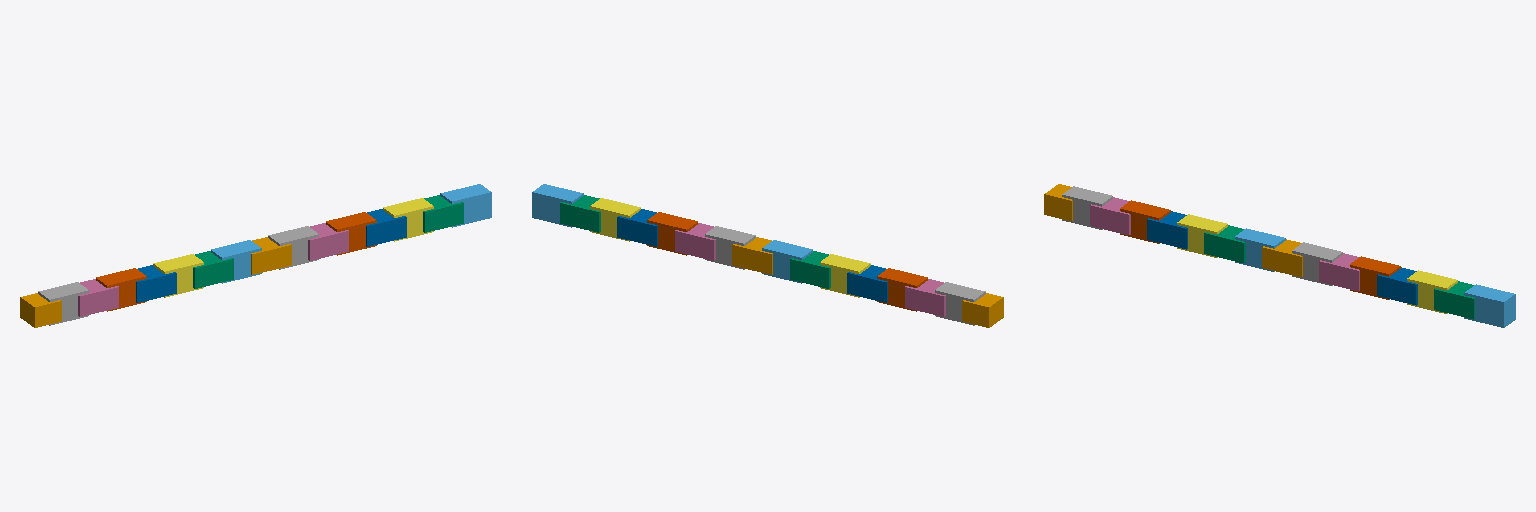
robot.urdf — snake_test:
<?xml version="1.0"?>

<robot name="snake_test">

    <link name="base_link">
        <visual>
            <origin xyz="0 0 0.0" rpy="0 -1.57075 0"/>
            <geometry>
                <box size="0.03 0.03 0.005"/>
            </geometry>
            <material name="black"/>
        </visual>    
    </link>

    <joint name="endpoint" type="fixed">
        <parent link="base_link"/>
        <child link="head"/>
        <origin xyz="0.0 0.0 0.0" rpy="0.0 1.57075 0.0"/>
    </joint>

    <link name="head">
        <inertial>
            <mass value="0.06"/>
            <inertia ixx="4.0E-5" ixy="0" ixz="0" iyy="4.45E-5" iyz="0" izz="2.05E-5"/>
        </inertial>
        <visual>
            <origin xyz="0.0 0.0 0.0" rpy="0.0 0.0 0.0"/>
            <geometry>
                <box size="0.05 0.04 0.08"/>
            </geometry>
        </visual>

        <collision>
            <origin xyz="0.0 0.0 0.02" rpy="0.0 0.0 0.0"/>
            <geometry>
                <box size="0.046 0.036 0.04"/>
            </geometry>
        </collision>
    </link>

    <link name="1_link">
        <inertial>
            <mass value="0.06"/>
            <inertia ixx="4.0E-5" ixy="0" ixz="0" iyy="4.45E-5" iyz="0" izz="2.05E-5"/>
        </inertial>
        <visual>
            <origin xyz="0.0 0.0 -0.029" rpy="0.0 0.0 0.0"/>
            <geometry>
                <box size="0.05 0.04 0.08"/>
            </geometry>
        </visual>

        <collision>
            <origin xyz="0.0 0.0 -0.009" rpy="0.0 0.0 0.0"/>
            <geometry>
                <box size="0.046 0.036 0.04"/>
            </geometry>
        </collision>
    </link>    

    <link name="2_link">
        <inertial>
            <mass value="0.06"/>
            <inertia ixx="4.0E-5" ixy="0" ixz="0" iyy="4.45E-5" iyz="0" izz="2.05E-5"/>
        </inertial>
        <visual>
            <origin xyz="0.0 0.0 -0.029" rpy="0.0 0.0 0.0"/>
            <geometry>
                <box size="0.05 0.04 0.08"/>
            </geometry>
        </visual>

        <collision>
            <origin xyz="0.0 0.0 -0.009" rpy="0.0 0.0 0.0"/>
            <geometry>
                <box size="0.046 0.036 0.04"/>
            </geometry>
        </collision>
    </link>  

    <link name="3_link">
        <inertial>
            <mass value="0.06"/>
            <inertia ixx="4.0E-5" ixy="0" ixz="0" iyy="4.45E-5" iyz="0" izz="2.05E-5"/>
        </inertial>
        <visual>
            <origin xyz="0.0 0.0 -0.029" rpy="0.0 0.0 0.0"/>
            <geometry>
                <box size="0.05 0.04 0.08"/>
            </geometry>
        </visual>

        <collision>
            <origin xyz="0.0 0.0 -0.009" rpy="0.0 0.0 0.0"/>
            <geometry>
                <box size="0.046 0.036 0.04"/>
            </geometry>
        </collision>
    </link>

    <link name="4_link">
        <inertial>
            <mass value="0.06"/>
            <inertia ixx="4.0E-5" ixy="0" ixz="0" iyy="4.45E-5" iyz="0" izz="2.05E-5"/>
        </inertial>
        <visual>
            <origin xyz="0.0 0.0 -0.029" rpy="0.0 0.0 0.0"/>
            <geometry>
                <box size="0.05 0.04 0.08"/>
            </geometry>
        </visual>

        <collision>
            <origin xyz="0.0 0.0 -0.009" rpy="0.0 0.0 0.0"/>
            <geometry>
                <box size="0.046 0.036 0.04"/>
            </geometry>
        </collision>
    </link>

    <link name="5_link">
        <inertial>
            <mass value="0.06"/>
            <inertia ixx="4.0E-5" ixy="0" ixz="0" iyy="4.45E-5" iyz="0" izz="2.05E-5"/>
        </inertial>
        <visual>
            <origin xyz="0.0 0.0 -0.029" rpy="0.0 0.0 0.0"/>
            <geometry>
                <box size="0.05 0.04 0.08"/>
            </geometry>
        </visual>

        <collision>
            <origin xyz="0.0 0.0 -0.009" rpy="0.0 0.0 0.0"/>
            <geometry>
                <box size="0.046 0.036 0.04"/>
            </geometry>
        </collision>
    </link>  

    <link name="6_link">
        <inertial>
            <mass value="0.06"/>
            <inertia ixx="4.0E-5" ixy="0" ixz="0" iyy="4.45E-5" iyz="0" izz="2.05E-5"/>
        </inertial>
        <visual>
            <origin xyz="0.0 0.0 -0.029" rpy="0.0 0.0 0.0"/>
            <geometry>
                <box size="0.05 0.04 0.08"/>
            </geometry>
        </visual>

        <collision>
            <origin xyz="0.0 0.0 -0.009" rpy="0.0 0.0 0.0"/>
            <geometry>
                <box size="0.046 0.036 0.04"/>
            </geometry>
        </collision>
    </link>

    <link name="7_link">
        <inertial>
            <mass value="0.06"/>
            <inertia ixx="4.0E-5" ixy="0" ixz="0" iyy="4.45E-5" iyz="0" izz="2.05E-5"/>
        </inertial>
        <visual>
            <origin xyz="0.0 0.0 -0.029" rpy="0.0 0.0 0.0"/>
            <geometry>
                <box size="0.05 0.04 0.08"/>
            </geometry>
        </visual>

        <collision>
            <origin xyz="0.0 0.0 -0.009" rpy="0.0 0.0 0.0"/>
            <geometry>
                <box size="0.046 0.036 0.04"/>
            </geometry>
        </collision>
    </link>

    <link name="8_link">
        <inertial>
            <mass value="0.06"/>
            <inertia ixx="4.0E-5" ixy="0" ixz="0" iyy="4.45E-5" iyz="0" izz="2.05E-5"/>
        </inertial>
        <visual>
            <origin xyz="0.0 0.0 -0.029" rpy="0.0 0.0 0.0"/>
            <geometry>
                <box size="0.05 0.04 0.08"/>
            </geometry>
        </visual>

        <collision>
            <origin xyz="0.0 0.0 -0.009" rpy="0.0 0.0 0.0"/>
            <geometry>
                <box size="0.046 0.036 0.04"/>
            </geometry>
        </collision>
    </link>

    <link name="9_link">
        <inertial>
            <mass value="0.06"/>
            <inertia ixx="4.0E-5" ixy="0" ixz="0" iyy="4.45E-5" iyz="0" izz="2.05E-5"/>
        </inertial>
        <visual>
            <origin xyz="0.0 0.0 -0.029" rpy="0.0 0.0 0.0"/>
            <geometry>
                <box size="0.05 0.04 0.08"/>
            </geometry>
        </visual>

        <collision>
            <origin xyz="0.0 0.0 -0.009" rpy="0.0 0.0 0.0"/>
            <geometry>
                <box size="0.046 0.036 0.04"/>
            </geometry>
        </collision>
    </link>

    <link name="10_link">
        <inertial>
            <mass value="0.06"/>
            <inertia ixx="4.0E-5" ixy="0" ixz="0" iyy="4.45E-5" iyz="0" izz="2.05E-5"/>
        </inertial>
        <visual>
            <origin xyz="0.0 0.0 -0.029" rpy="0.0 0.0 0.0"/>
            <geometry>
                <box size="0.05 0.04 0.08"/>
            </geometry>
        </visual>

        <collision>
            <origin xyz="0.0 0.0 -0.009" rpy="0.0 0.0 0.0"/>
            <geometry>
                <box size="0.046 0.036 0.04"/>
            </geometry>
        </collision>
    </link>

    <link name="11_link">
        <inertial>
            <mass value="0.06"/>
            <inertia ixx="4.0E-5" ixy="0" ixz="0" iyy="4.45E-5" iyz="0" izz="2.05E-5"/>
        </inertial>
        <visual>
            <origin xyz="0.0 0.0 -0.029" rpy="0.0 0.0 0.0"/>
            <geometry>
                <box size="0.05 0.04 0.08"/>
            </geometry>
        </visual>

        <collision>
            <origin xyz="0.0 0.0 -0.009" rpy="0.0 0.0 0.0"/>
            <geometry>
                <box size="0.046 0.036 0.04"/>
            </geometry>
        </collision>
    </link>

    <link name="12_link">
        <inertial>
            <mass value="0.06"/>
            <inertia ixx="4.0E-5" ixy="0" ixz="0" iyy="4.45E-5" iyz="0" izz="2.05E-5"/>
        </inertial>
        <visual>
            <origin xyz="0.0 0.0 -0.029" rpy="0.0 0.0 0.0"/>
            <geometry>
                <box size="0.05 0.04 0.08"/>
            </geometry>
        </visual>

        <collision>
            <origin xyz="0.0 0.0 -0.009" rpy="0.0 0.0 0.0"/>
            <geometry>
                <box size="0.046 0.036 0.04"/>
            </geometry>
        </collision>
    </link>

    <link name="13_link">
        <inertial>
            <mass value="0.06"/>
            <inertia ixx="4.0E-5" ixy="0" ixz="0" iyy="4.45E-5" iyz="0" izz="2.05E-5"/>
        </inertial>
        <visual>
            <origin xyz="0.0 0.0 -0.029" rpy="0.0 0.0 0.0"/>
            <geometry>
                <box size="0.05 0.04 0.08"/>
            </geometry>
        </visual>

        <collision>
            <origin xyz="0.0 0.0 -0.009" rpy="0.0 0.0 0.0"/>
            <geometry>
                <box size="0.046 0.036 0.04"/>
            </geometry>
        </collision>
    </link>

    <link name="14_link">
        <inertial>
            <mass value="0.06"/>
            <inertia ixx="4.0E-5" ixy="0" ixz="0" iyy="4.45E-5" iyz="0" izz="2.05E-5"/>
        </inertial>
        <visual>
            <origin xyz="0.0 0.0 -0.029" rpy="0.0 0.0 0.0"/>
            <geometry>
                <box size="0.05 0.04 0.08"/>
            </geometry>
        </visual>

        <collision>
            <origin xyz="0.0 0.0 -0.009" rpy="0.0 0.0 0.0"/>
            <geometry>
                <box size="0.046 0.036 0.04"/>
            </geometry>
        </collision>
    </link>

    <link name="15_link">
        <inertial>
            <mass value="0.06"/>
            <inertia ixx="4.0E-5" ixy="0" ixz="0" iyy="4.45E-5" iyz="0" izz="2.05E-5"/>
        </inertial>
        <visual>
            <origin xyz="0.0 0.0 -0.0165" rpy="0.0 0.0 0.0"/>
            <geometry>
                <box size="0.05 0.04 0.055"/>
            </geometry>
        </visual>

        <collision>
            <origin xyz="0.0 0.0 -0.0165" rpy="0.0 0.0 0.0"/>
            <geometry>
                <box size="0.046 0.036 0.055"/>
            </geometry>
        </collision>
    </link>

    <joint name="1_joint" type="revolute">
        <parent link="head"/>
        <child link="1_link"/>
        <origin xyz="0.0 0.0 -0.029" rpy="0.0 0.0 1.57075"/>
        <axis xyz="0 1 0"/>
        <limit lower="-1.57075" upper="1.57075" effort="0.0" velocity="0.0"/>
    </joint>

    <joint name="2_joint" type="revolute">
        <parent link="1_link"/>
        <child link="2_link"/>
        <origin xyz="0.0 0.0 -0.058" rpy="0.0 0.0 -1.57075"/>
        <axis xyz="0 1 0"/>
        <limit lower="-1.57075" upper="1.57075" effort="0.0" velocity="0.0"/>
    </joint>

    <joint name="3_joint" type="revolute">
        <parent link="2_link"/>
        <child link="3_link"/>
        <origin xyz="0.0 0.0 -0.058" rpy="0.0 0.0 1.57075"/>
        <axis xyz="0 1 0"/>
        <limit lower="-1.57075" upper="1.57075" effort="0.0" velocity="0.0"/>
    </joint>

    <joint name="4_joint" type="revolute">
        <parent link="3_link"/>
        <child link="4_link"/>
        <origin xyz="0.0 0.0 -0.058" rpy="0.0 0.0 1.57075"/>
        <axis xyz="0 1 0"/>
        <limit lower="-1.57075" upper="1.57075" effort="0.0" velocity="0.0"/>
    </joint>

    <joint name="5_joint" type="revolute">
        <parent link="4_link"/>
        <child link="5_link"/>
        <origin xyz="0.0 0.0 -0.058" rpy="0.0 0.0 1.57075"/>
        <axis xyz="0 1 0"/>
        <limit lower="-1.57075" upper="1.57075" effort="0.0" velocity="0.0"/>
    </joint>

    <joint name="6_joint" type="revolute">
        <parent link="5_link"/>
        <child link="6_link"/>
        <origin xyz="0.0 0.0 -0.058" rpy="0.0 0.0 1.57075"/>
        <axis xyz="0 1 0"/>
        <limit lower="-1.57075" upper="1.57075" effort="0.0" velocity="0.0"/>
    </joint>

    <joint name="7_joint" type="revolute">
        <parent link="6_link"/>
        <child link="7_link"/>
        <origin xyz="0.0 0.0 -0.058" rpy="0.0 0.0 1.57075"/>
        <axis xyz="0 1 0"/>
        <limit lower="-1.57075" upper="1.57075" effort="0.0" velocity="0.0"/>
    </joint>

    <joint name="8_joint" type="revolute">
        <parent link="7_link"/>
        <child link="8_link"/>
        <origin xyz="0.0 0.0 -0.058" rpy="0.0 0.0 1.57075"/>
        <axis xyz="0 1 0"/>
        <limit lower="-1.57075" upper="1.57075" effort="0.0" velocity="0.0"/>
    </joint>

    <joint name="9_joint" type="revolute">
        <parent link="8_link"/>
        <child link="9_link"/>
        <origin xyz="0.0 0.0 -0.058" rpy="0.0 0.0 1.57075"/>
        <axis xyz="0 1 0"/>
        <limit lower="-1.57075" upper="1.57075" effort="0.0" velocity="0.0"/>
    </joint>

    <joint name="10_joint" type="revolute">
        <parent link="9_link"/>
        <child link="10_link"/>
        <origin xyz="0.0 0.0 -0.058" rpy="0.0 0.0 1.57075"/>
        <axis xyz="0 1 0"/>
        <limit lower="-1.57075" upper="1.57075" effort="0.0" velocity="0.0"/>
    </joint>

    <joint name="11_joint" type="revolute">
        <parent link="10_link"/>
        <child link="11_link"/>
        <origin xyz="0.0 0.0 -0.058" rpy="0.0 0.0 1.57075"/>
        <axis xyz="0 1 0"/>
        <limit lower="-1.57075" upper="1.57075" effort="0.0" velocity="0.0"/>
    </joint>

    <joint name="12_joint" type="revolute">
        <parent link="11_link"/>
        <child link="12_link"/>
        <origin xyz="0.0 0.0 -0.058" rpy="0.0 0.0 1.57075"/>
        <axis xyz="0 1 0"/>
        <limit lower="-1.57075" upper="1.57075" effort="0.0" velocity="0.0"/>
    </joint>

    <joint name="13_joint" type="revolute">
        <parent link="12_link"/>
        <child link="13_link"/>
        <origin xyz="0.0 0.0 -0.058" rpy="0.0 0.0 1.57075"/>
        <axis xyz="0 1 0"/>
        <limit lower="-1.57075" upper="1.57075" effort="0.0" velocity="0.0"/>
    </joint>

    <joint name="14_joint" type="revolute">
        <parent link="13_link"/>
        <child link="14_link"/>
        <origin xyz="0.0 0.0 -0.058" rpy="0.0 0.0 1.57075"/>
        <axis xyz="0 1 0"/>
        <limit lower="-1.57075" upper="1.57075" effort="0.0" velocity="0.0"/>
    </joint>

    <joint name="15_joint" type="revolute">
        <parent link="14_link"/>
        <child link="15_link"/>
        <origin xyz="0.0 0.0 -0.058" rpy="0.0 0.0 1.57075"/>
        <axis xyz="0 1 0"/>
        <limit lower="-1.57075" upper="1.57075" effort="0.0" velocity="0.0"/>
    </joint>

</robot>

--- What the picture shows (computed from the rendered views, not written in the file) ---
Views: 3 orthographic renders of the robot side by side, from view 1: azimuth 30°, elevation 25°; view 2: azimuth 150°, elevation 25°; view 3: azimuth 330°, elevation 25°.
Robot: snake_test — 17 links, 16 joints (15 revolute, 1 fixed); root link base_link; default pose: all joints at 0.
Links seen in each view (by area): view 1: head, 15_link, 13_link, 9_link, 5_link, 1_link, 3_link, 7_link, 11_link, 8_link, 4_link, 12_link (+4 smaller); view 2: head, 15_link, 13_link, 9_link, 1_link, 5_link, 3_link, 7_link, 11_link, 8_link, 4_link, 12_link (+4 smaller); view 3: head, 9_link, 5_link, 1_link, 11_link, 7_link, 13_link, 3_link, 14_link, 4_link, 6_link, 2_link (+4 smaller).
Boxes of the visible links, box(x1,y1,x2,y2) form: head: box(440, 184, 491, 227); 15_link: box(20, 293, 61, 327); 13_link: box(78, 279, 118, 316); 9_link: box(193, 251, 233, 288); 5_link: box(308, 223, 348, 260); 1_link: box(423, 195, 463, 232); 3_link: box(366, 209, 406, 246); 7_link: box(251, 237, 291, 274); 11_link: box(136, 265, 176, 302); 8_link: box(211, 240, 261, 283); 4_link: box(326, 212, 376, 255); 12_link: box(96, 268, 146, 311); head: box(532, 184, 583, 227); 15_link: box(962, 293, 1003, 327); 13_link: box(905, 279, 945, 316); 9_link: box(790, 251, 830, 288); 1_link: box(560, 195, 600, 232); 5_link: box(675, 223, 715, 260); 3_link: box(617, 209, 657, 246); 7_link: box(732, 237, 772, 274); 11_link: box(847, 265, 887, 302); 8_link: box(762, 240, 812, 283); 4_link: box(647, 212, 697, 255); 12_link: box(877, 268, 927, 311); head: box(1464, 284, 1515, 327); 9_link: box(1204, 225, 1245, 262); 5_link: box(1319, 253, 1359, 291); 1_link: box(1434, 281, 1474, 319); 11_link: box(1147, 211, 1187, 249); 7_link: box(1262, 239, 1302, 277); 13_link: box(1090, 197, 1130, 234); 3_link: box(1377, 267, 1417, 305); 14_link: box(1062, 186, 1112, 229); 4_link: box(1350, 256, 1400, 299); 6_link: box(1292, 242, 1342, 285); 2_link: box(1407, 270, 1457, 313).
Bounding box of the posed robot: 0.925 × 0.05 × 0.0501 m (x, y, z).
Geometry: primitives only (box / cylinder / sphere), no mesh files.
